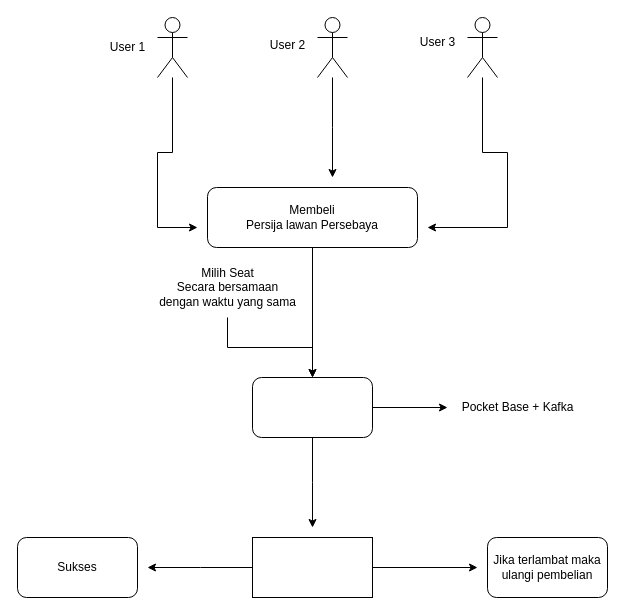
The diagram is 625 pixels wide and 615 high, and some of its shapes have lost their labels. Here are the shapes that lost their labels. From the top down, the centre of each, then its label:
At point (312, 407): "Cooldown 60 Detik untuk Pembayaran".
At point (312, 567): "Siapa yang pertama, dia yang dapat membeli".
